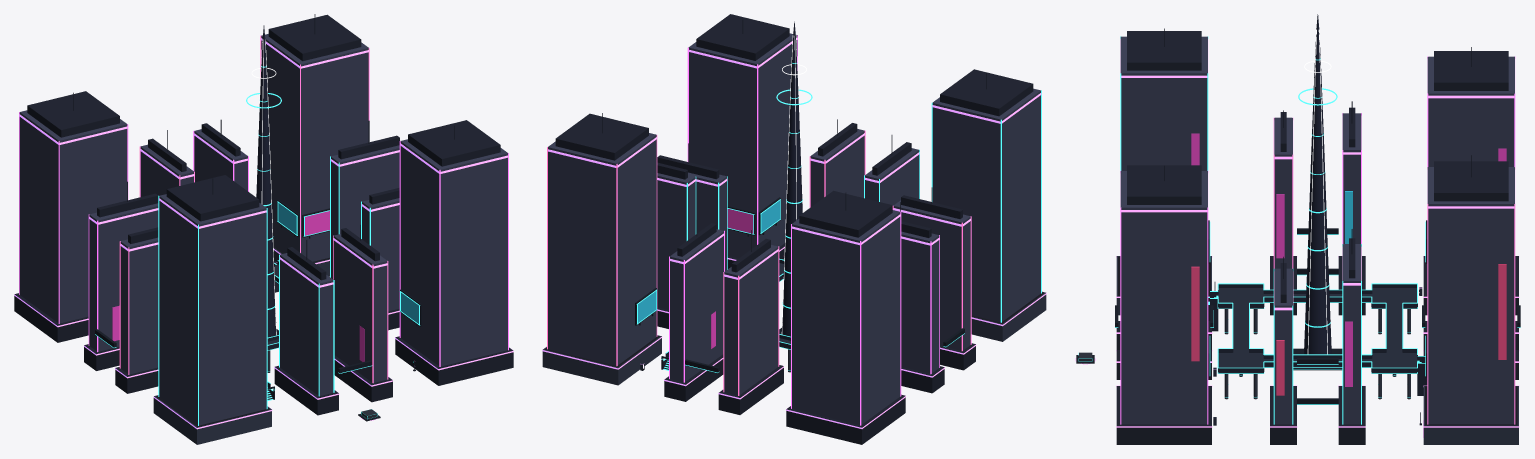
3 renders of one model, left to right at view 1: azimuth 30°, elevation 25°; view 2: azimuth 150°, elevation 25°; view 3: azimuth 270°, elevation 25°, orthographic. The views are drawn at different scales.
Visible parts, largest first — view 1: district_city_cero.lod0; view 2: district_city_cero.lod0; view 3: district_city_cero.lod0.
Boxes of the visible parts, <box> form: district_city_cero.lod0: <box>14,14,513,444</box>; district_city_cero.lod0: <box>542,14,1046,444</box>; district_city_cero.lod0: <box>1075,14,1520,444</box>.
Size of the model in its own units: 97.84 by 92.01 by 107.
